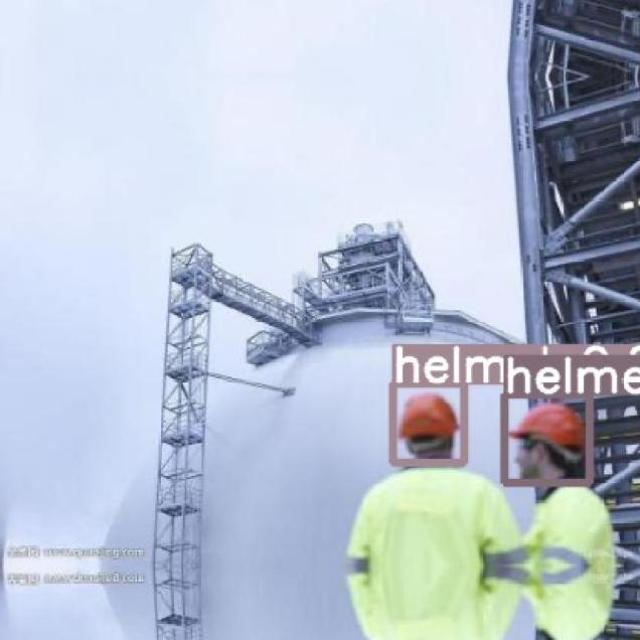red helmet: (501, 401, 598, 468), (396, 389, 462, 451)
